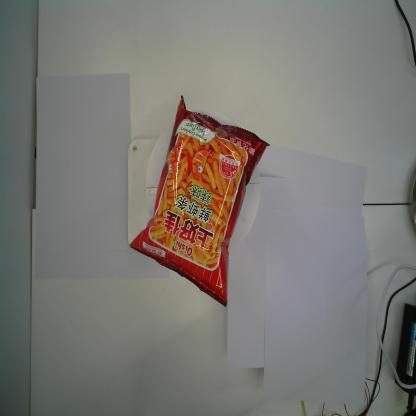Puffed Food: (129, 93, 271, 306)
